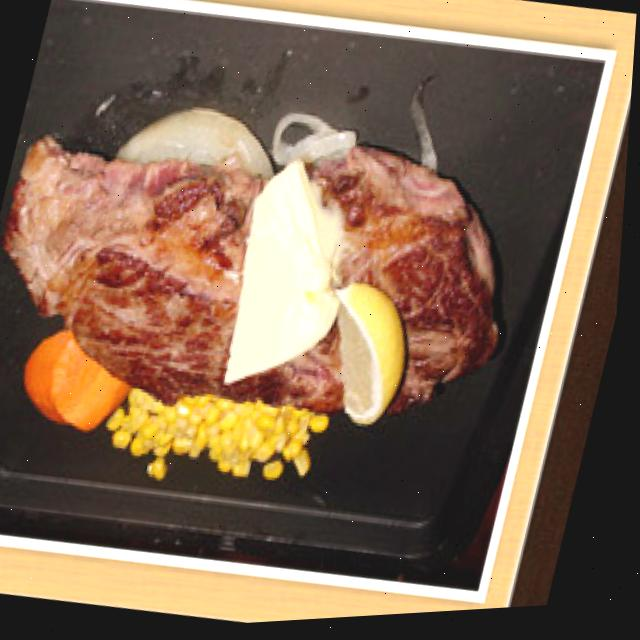牛肉菜式: (18, 0, 539, 213)
